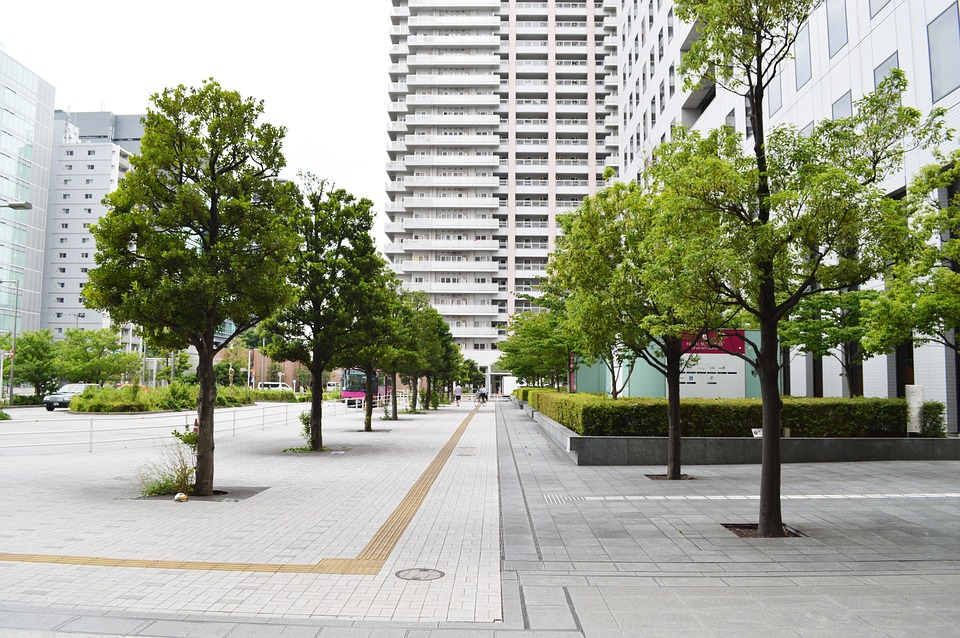tree: (623, 1, 960, 539), (81, 76, 314, 495)
